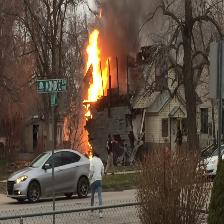fire: (88, 35, 105, 100)
smoke: (107, 3, 139, 53)
